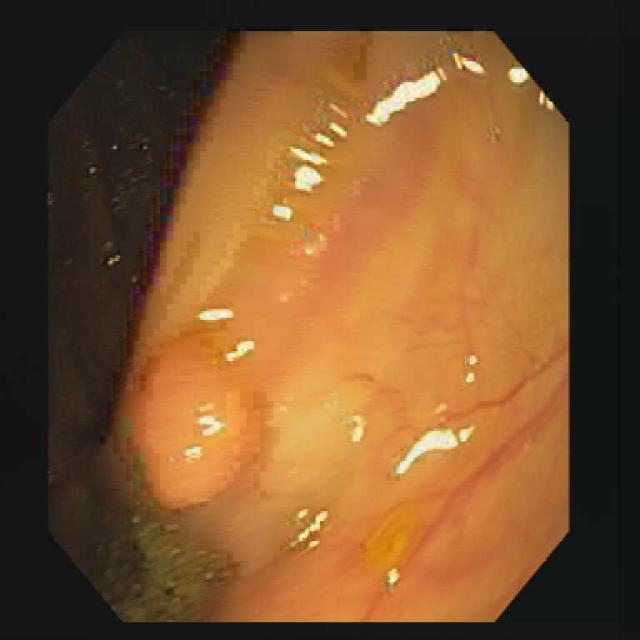tumor: (127, 324, 252, 507)
